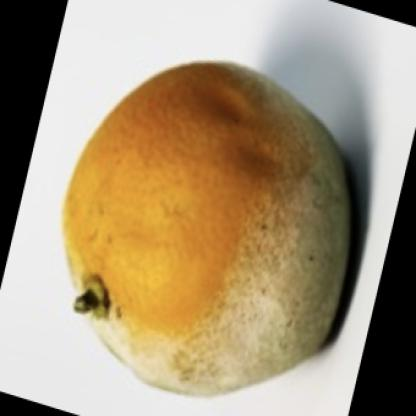rotten: (64, 61, 351, 401)
